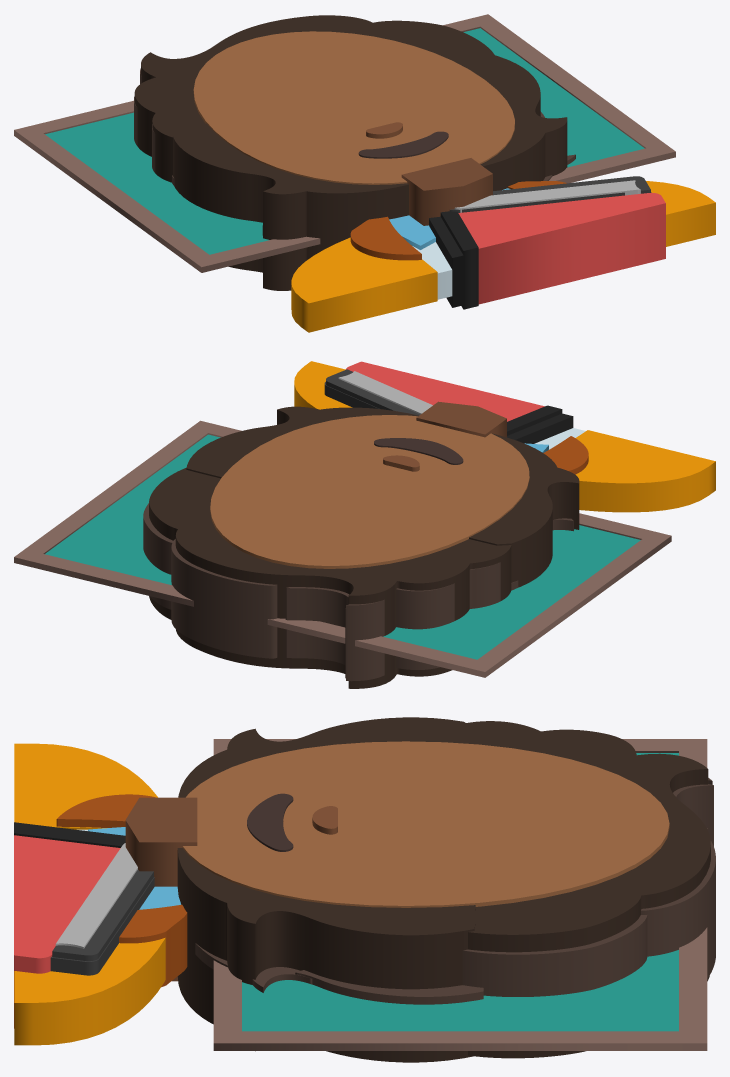
Rendered from emoji_u1f9d1_1f3fe_200d_1f3eb.glb.
The picture shows the model from 3 angles, top to bottom: view 1: azimuth 30°, elevation 25°; view 2: azimuth 150°, elevation 25°; view 3: azimuth 270°, elevation 25°; orthographic projection. The views are drawn at different scales.
Parts seen in each view (by area): view 1: emoji_u1f9d1_1f3fe_200d_1f3eb; view 2: emoji_u1f9d1_1f3fe_200d_1f3eb; view 3: emoji_u1f9d1_1f3fe_200d_1f3eb.
Boxes of the visible parts, left/top/right/bottom form: emoji_u1f9d1_1f3fe_200d_1f3eb: left=14, top=14, right=715, bottom=332; emoji_u1f9d1_1f3fe_200d_1f3eb: left=14, top=361, right=715, bottom=688; emoji_u1f9d1_1f3fe_200d_1f3eb: left=14, top=717, right=715, bottom=1062.
Bounding box in the file's own units: 0.0338 × 0.0074 × 0.033.
